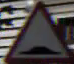Speed Breaker ahead: (8, 8, 63, 59)
